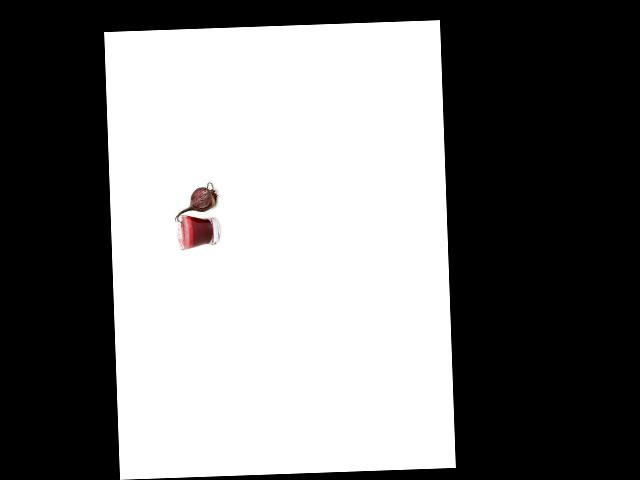beet: (174, 182, 218, 227)
